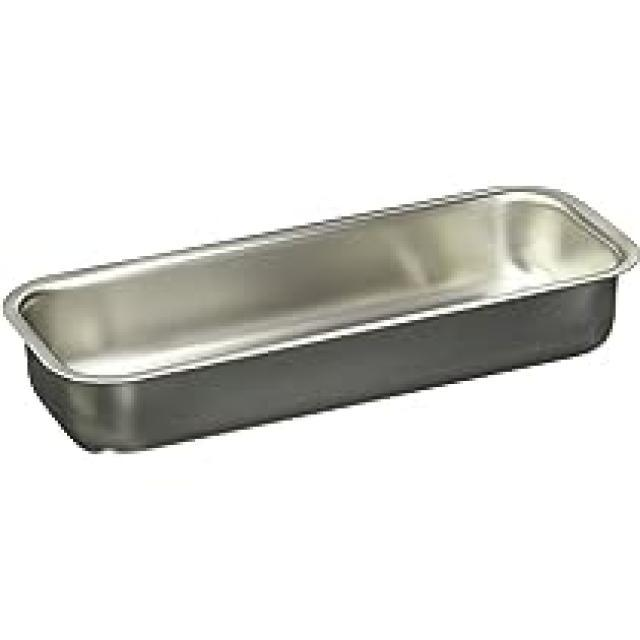Catheter Tray: (2, 166, 639, 460)
